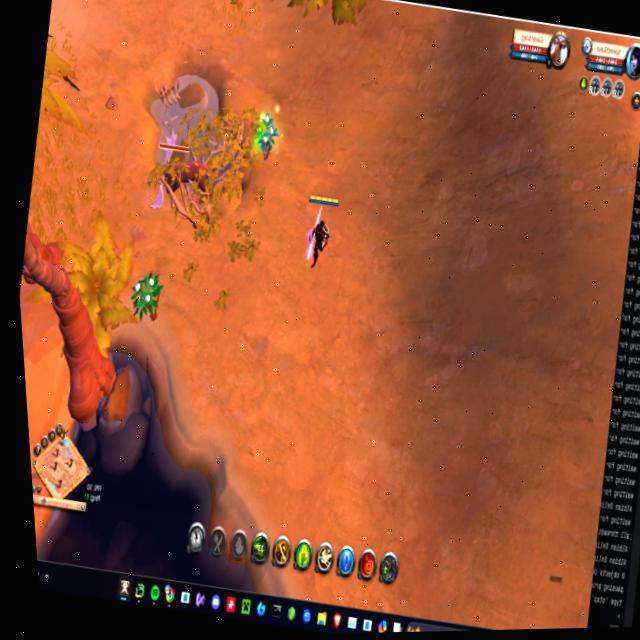hide: (126, 267, 167, 325), (250, 112, 282, 160)
ore: (142, 125, 224, 225)
red: (295, 189, 346, 274)
